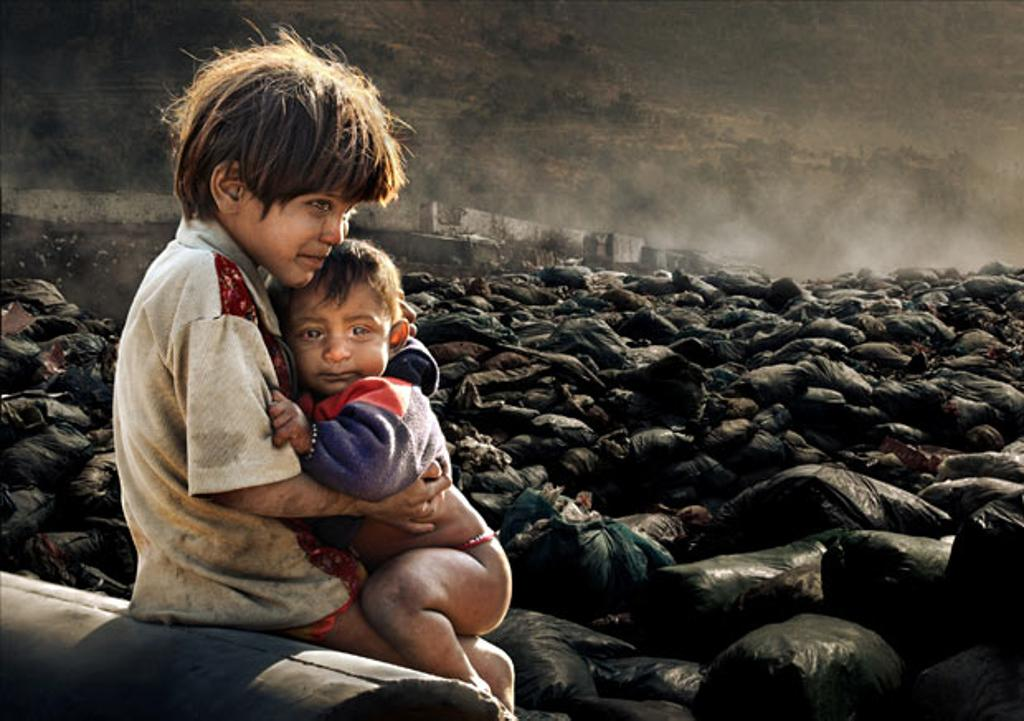face: (260, 138, 368, 288), (288, 286, 388, 398)
